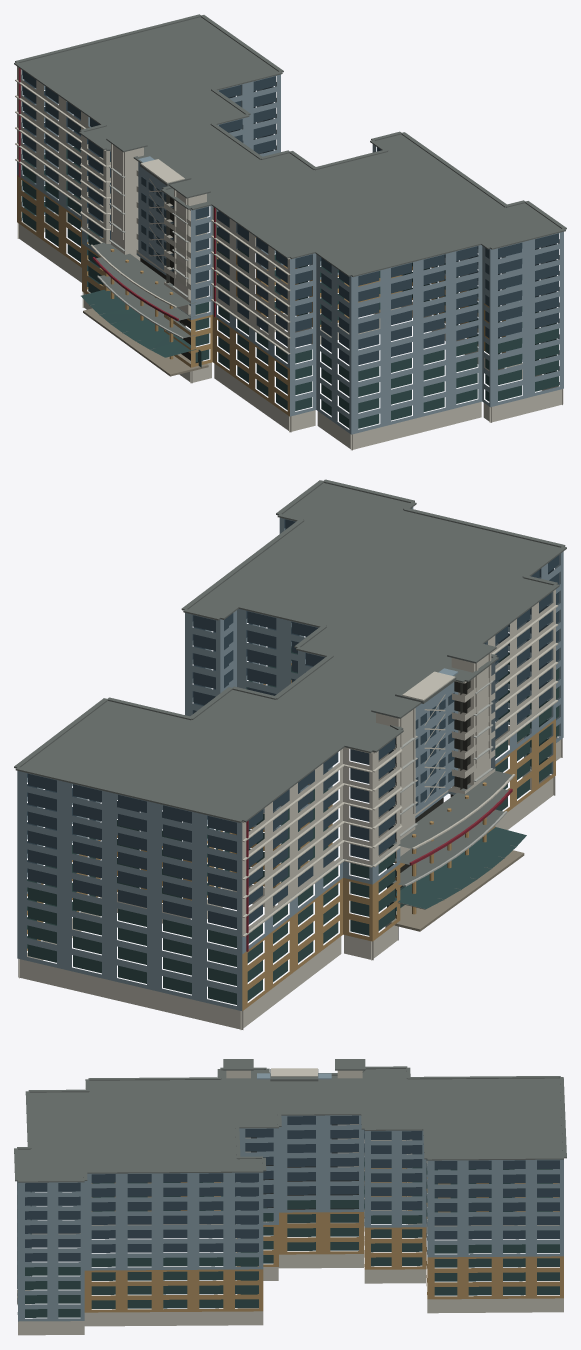
Rendered from mjiit_lod2.glb.
3 renders of one model, top to bottom at view 1: azimuth 30°, elevation 25°; view 2: azimuth 150°, elevation 25°; view 3: azimuth 270°, elevation 25°, orthographic. The views are drawn at different scales.
Parts seen in each view (by area): view 1: DarkMetal, BluePlaster, Ivory, GlassBlue, GlassGreen, Ochre, Paving, Wine, Silver, Shadow; view 2: DarkMetal, BluePlaster, Ivory, GlassBlue, GlassGreen, Ochre, Paving, Shadow, Silver, Wine; view 3: DarkMetal, BluePlaster, GlassBlue, GlassGreen, Ochre, Ivory, Shadow.
Boxes of the visible parts, x1=… form: DarkMetal: x1=14, y1=14, x2=566, y2=349; BluePlaster: x1=17, y1=74, x2=563, y2=434; Ivory: x1=15, y1=66, x2=563, y2=450; GlassBlue: x1=22, y1=70, x2=558, y2=365; GlassGreen: x1=22, y1=147, x2=558, y2=428; Ochre: x1=17, y1=175, x2=505, y2=416; Paving: x1=83, y1=308, x2=208, y2=376; Wine: x1=18, y1=68, x2=215, y2=320; Silver: x1=97, y1=166, x2=188, y2=338; Shadow: x1=140, y1=194, x2=190, y2=360; DarkMetal: x1=14, y1=479, x2=566, y2=909; BluePlaster: x1=17, y1=507, x2=563, y2=1010; Ivory: x1=18, y1=589, x2=562, y2=1029; GlassBlue: x1=27, y1=519, x2=559, y2=928; GlassGreen: x1=27, y1=627, x2=559, y2=1004; Ochre: x1=27, y1=663, x2=555, y2=1010; Paving: x1=389, y1=850, x2=524, y2=931; Shadow: x1=396, y1=680, x2=470, y2=891; Silver: x1=400, y1=680, x2=507, y2=886; Wine: x1=246, y1=788, x2=512, y2=951; DarkMetal: x1=14, y1=1059, x2=566, y2=1183; BluePlaster: x1=17, y1=1073, x2=563, y2=1321; GlassBlue: x1=25, y1=1115, x2=559, y2=1261; GlassGreen: x1=25, y1=1158, x2=559, y2=1317; Ochre: x1=84, y1=1168, x2=563, y2=1312; Ivory: x1=17, y1=1068, x2=563, y2=1335; Shadow: x1=251, y1=1124, x2=358, y2=1209.
Bounding box in the file's own units: 63.4 × 38.37 × 117.
